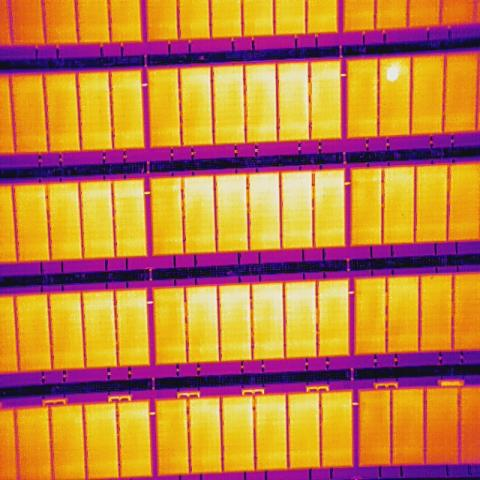fault: (384, 60, 402, 84)
